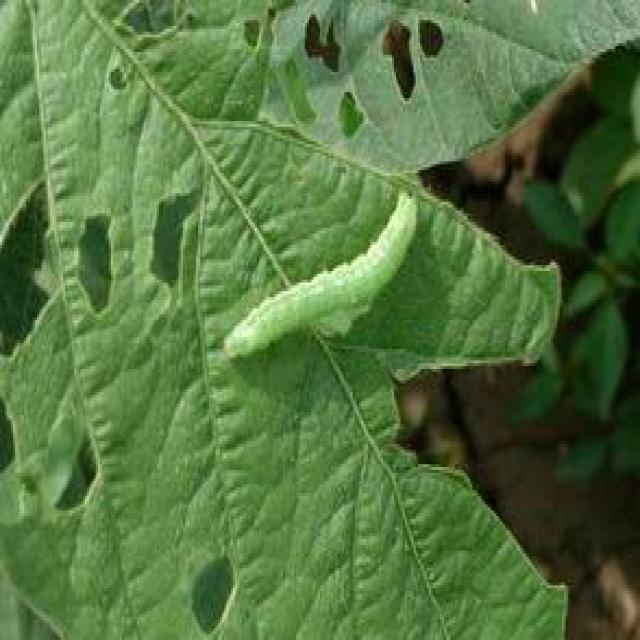BeetArmyWorm-Larva-: (215, 184, 429, 369)
